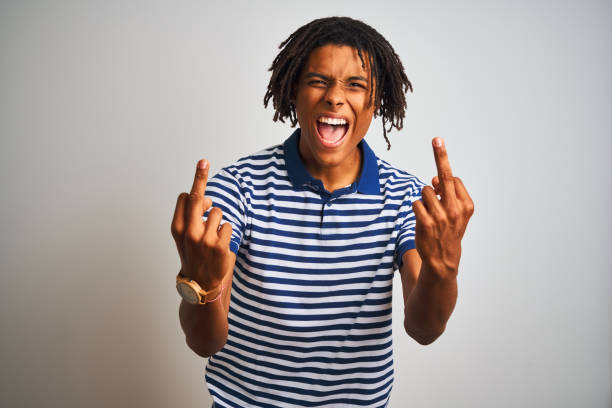insulting_gesture: (413, 132, 476, 271), (171, 160, 238, 273)
